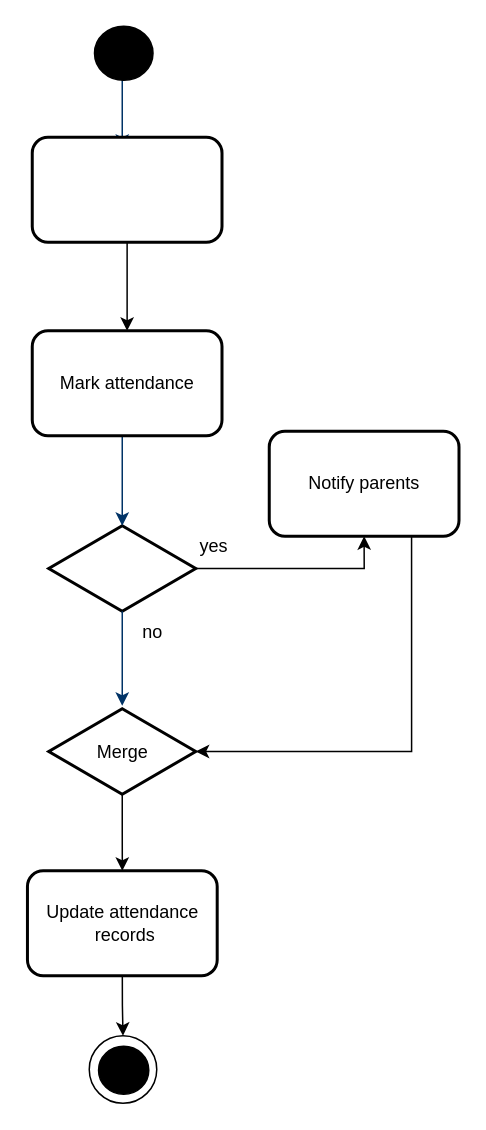
This 486x1130 diagram has some shape labels left out. The box of each missing label's shape, as (x1, y1, x2, y2) in pixels:
Any absences?: (46, 524, 196, 612)
Teacher logs in: (30, 135, 223, 243)
